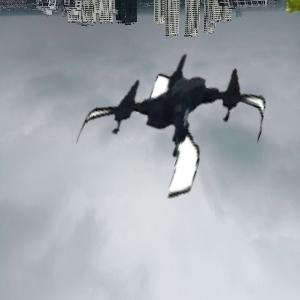drone: (90, 32, 265, 207)
